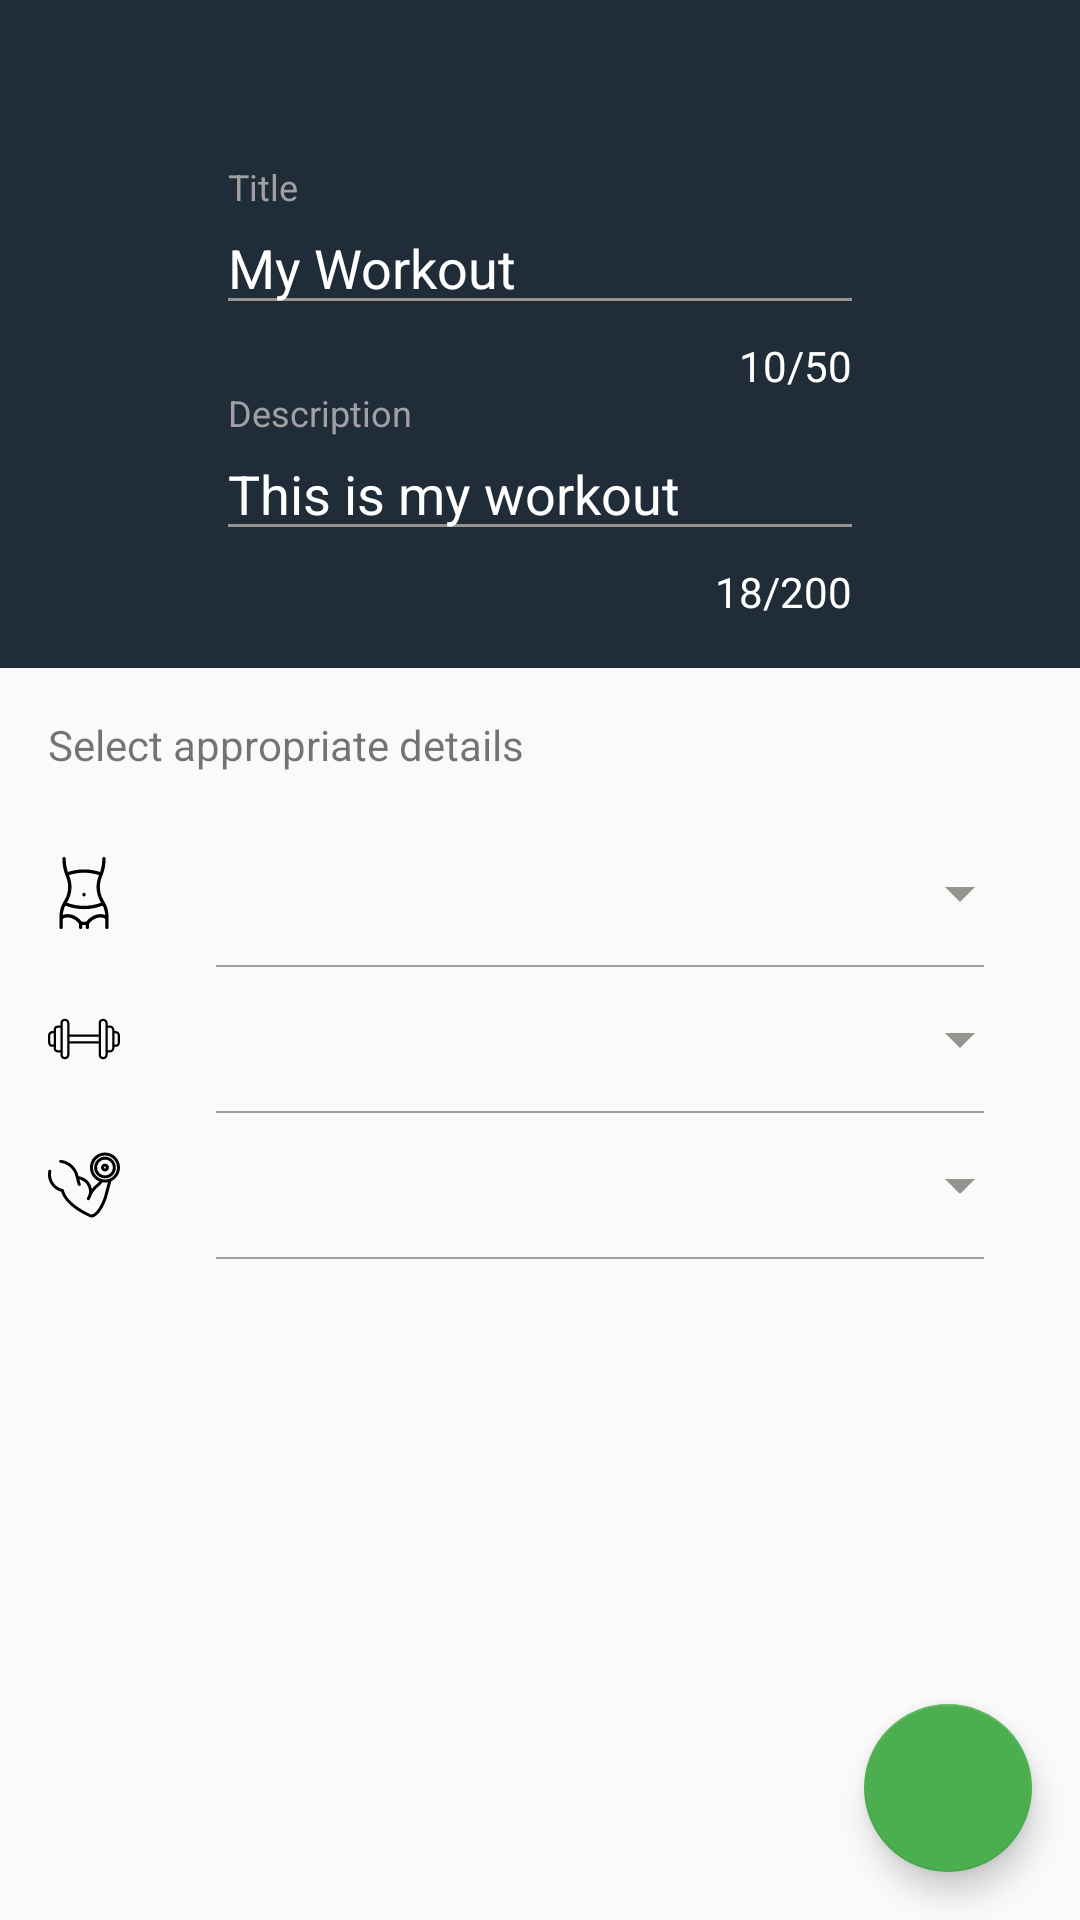

Icons on this 1080px×1920px Android screen, each with the point to tap as [x,y]:
waist: [84,893]
